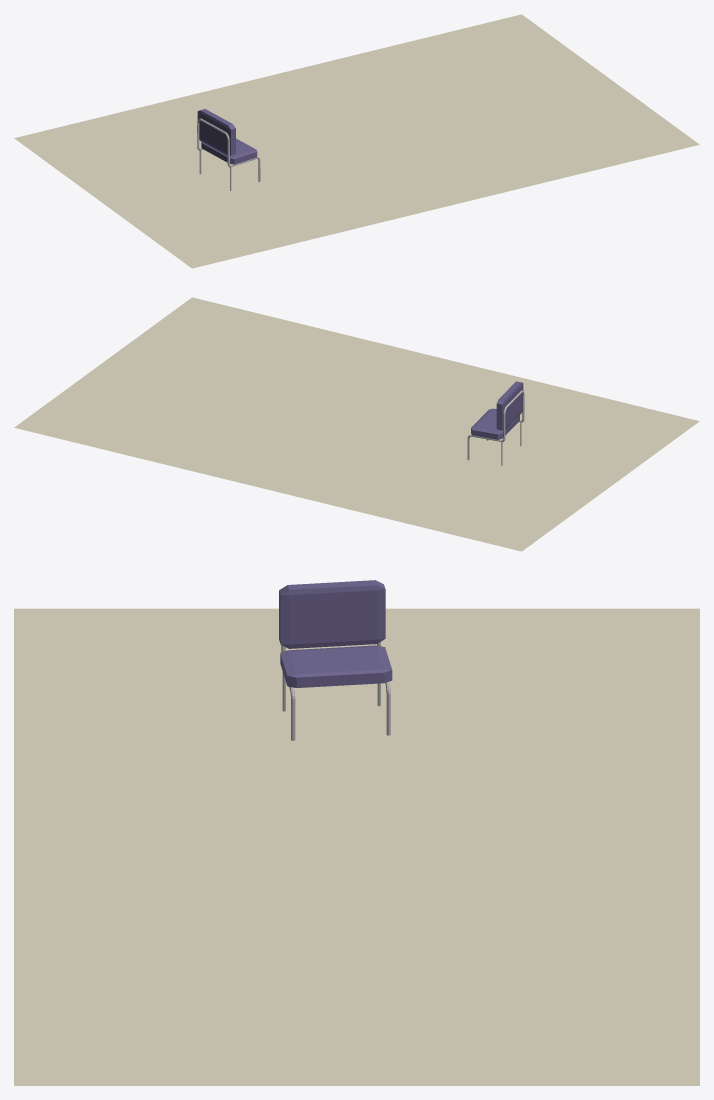
Rendered from HospitalDoble.fbx.
3 renders of one model, top to bottom at view 1: azimuth 30°, elevation 25°; view 2: azimuth 150°, elevation 25°; view 3: azimuth 270°, elevation 25°, orthographic. The views are drawn at different scales.
Visible parts, largest first — view 1: Cojín; view 2: Cojín; view 3: Cojín.
Boxes of the visible parts, <box> form: Cojín: <box>14,14,699,268</box>; Cojín: <box>14,297,699,551</box>; Cojín: <box>14,580,699,1085</box>.
Bounding box in the file's own units: 3151 × 384 × 1914.
